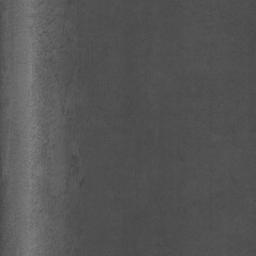Silk spot: (30, 0, 110, 256)
